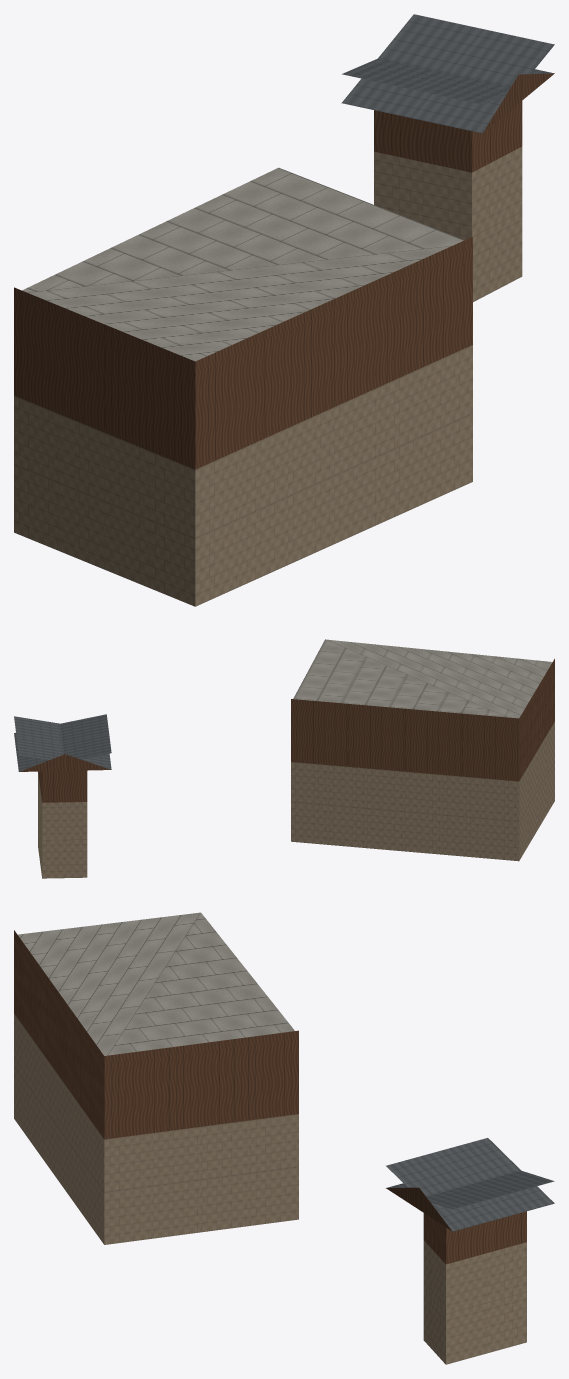
Rendered from bld_c9_16_449.gltf.
3 renders of one model, top to bottom at view 1: azimuth 30°, elevation 25°; view 2: azimuth 150°, elevation 25°; view 3: azimuth 270°, elevation 25°, orthographic. The views are drawn at different scales.
Parts seen in each view (by area): view 1: bld_c9_16_449; view 2: bld_c9_16_449; view 3: bld_c9_16_449.
Part boxes in pixels (x1,y1,x2,y2): bld_c9_16_449: (14,14,554,606); bld_c9_16_449: (14,639,554,878); bld_c9_16_449: (14,912,554,1364).
Size of the model in its own units: 25.48 by 9.28 by 22.
5 materials, 5 textured.
